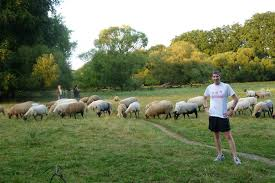sheep: (55, 101, 87, 121), (144, 100, 172, 121), (22, 105, 49, 123), (173, 101, 198, 120), (120, 101, 142, 121), (254, 99, 275, 119), (6, 101, 25, 120), (94, 100, 112, 118), (235, 100, 251, 116), (243, 88, 256, 97), (113, 96, 120, 101)
